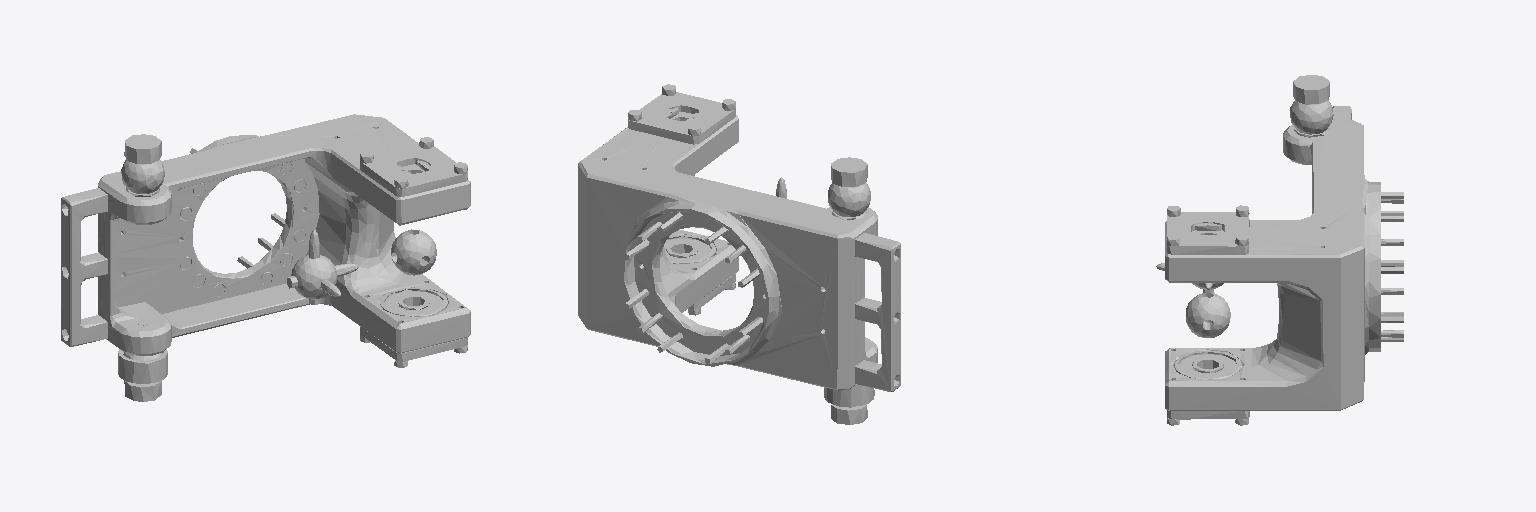
The model's file is TorsoYawLink.obj.
3 views of the same model, side by side, from view 1: azimuth 30°, elevation 25°; view 2: azimuth 150°, elevation 25°; view 3: azimuth 270°, elevation 25° (orthographic).
Visible parts, largest first — view 1: TorsoYawLink; view 2: TorsoYawLink; view 3: TorsoYawLink.
Boxes of the visible parts, <box> form: TorsoYawLink: <box>61,114,470,401</box>; TorsoYawLink: <box>578,84,900,424</box>; TorsoYawLink: <box>1156,75,1403,425</box>.
Size of the model in its own units: 0.1605 by 0.121 by 0.1075.